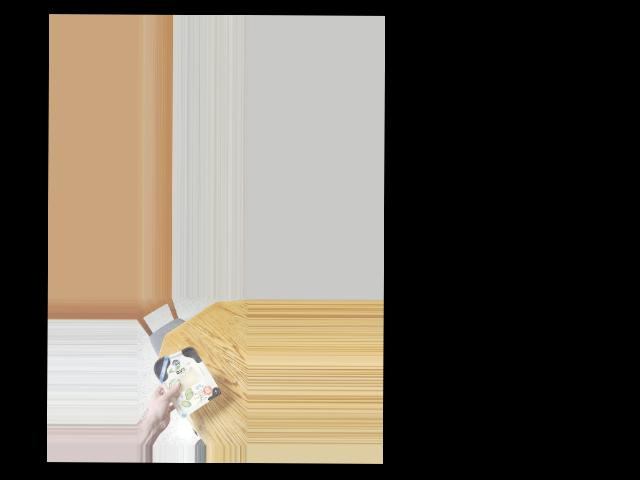cheese: (153, 341, 215, 408)
